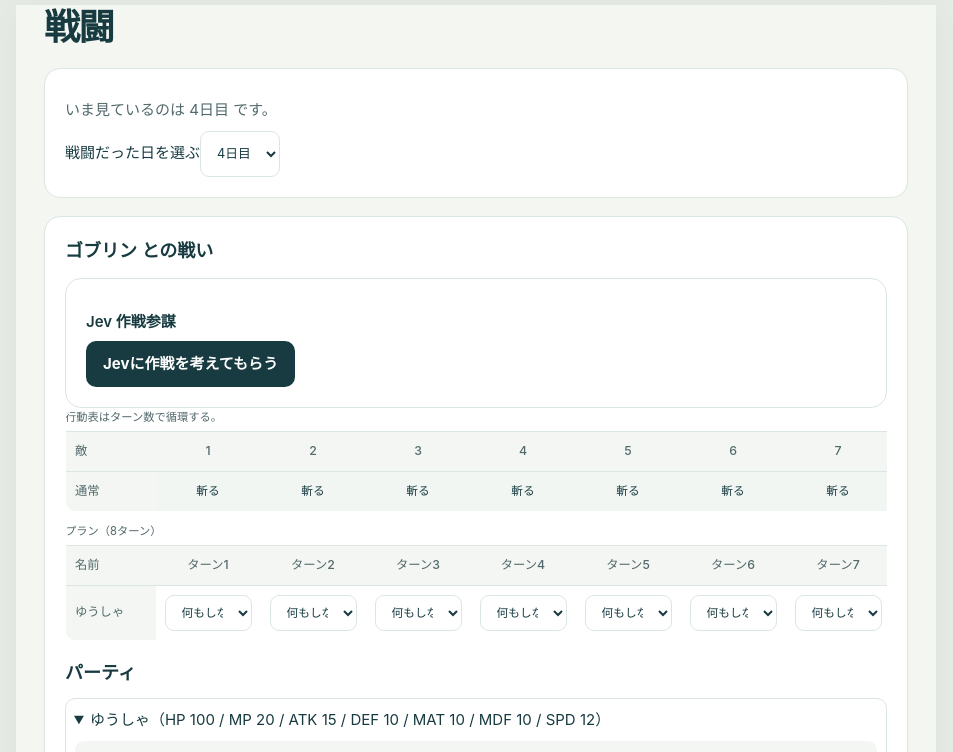
Test: Jev 作戦参謀 › AIの8ターン提案を表へ入れ、送信前に編集できる
Click the button "Jevに作戦を考えてもらう": (190,364) [86, 341, 295, 387]
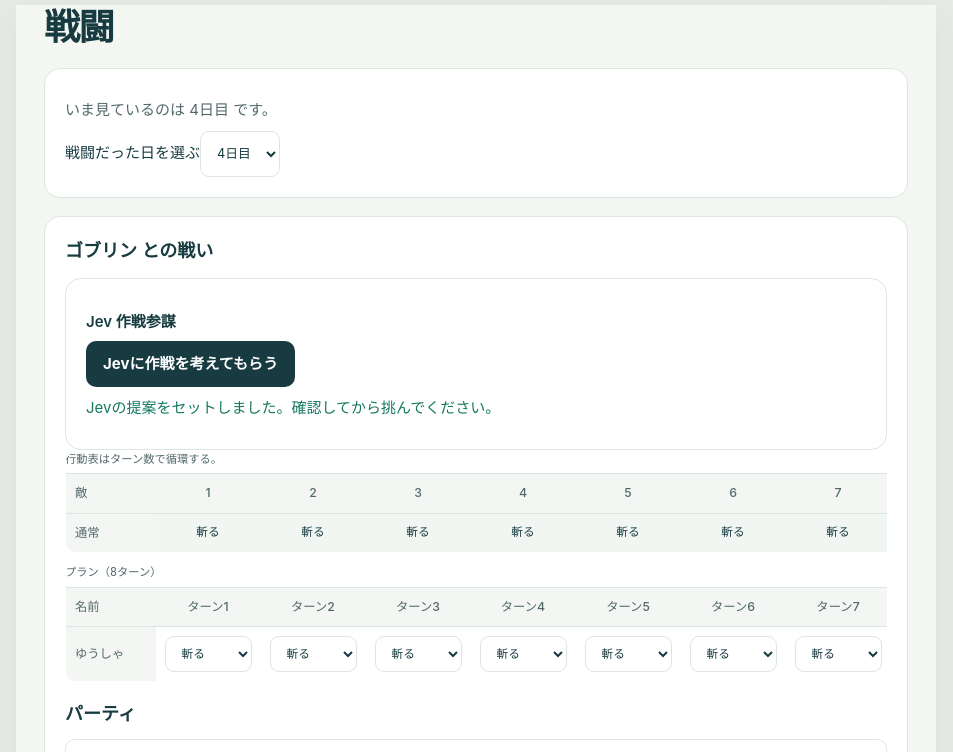
Expected: the dropdown named "ゆうしゃ のターン1" is enabled, [164, 636, 252, 672]
Expected: the text "Jevの提案をセットしました。確認してから挑んでください。" is shown, [86, 398, 500, 417]
Expected: the dropdown named "ゆうしゃ のターン1" shows "斬る", [164, 636, 252, 672]
